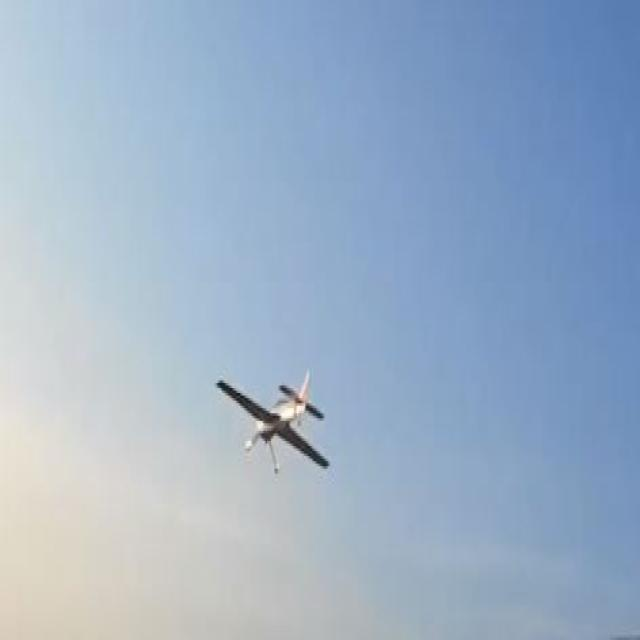iha: (246, 398, 299, 444)
